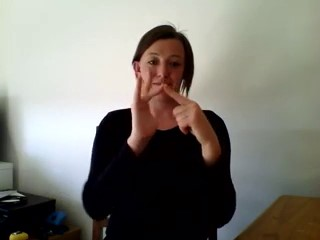O: (123, 67, 211, 152)
